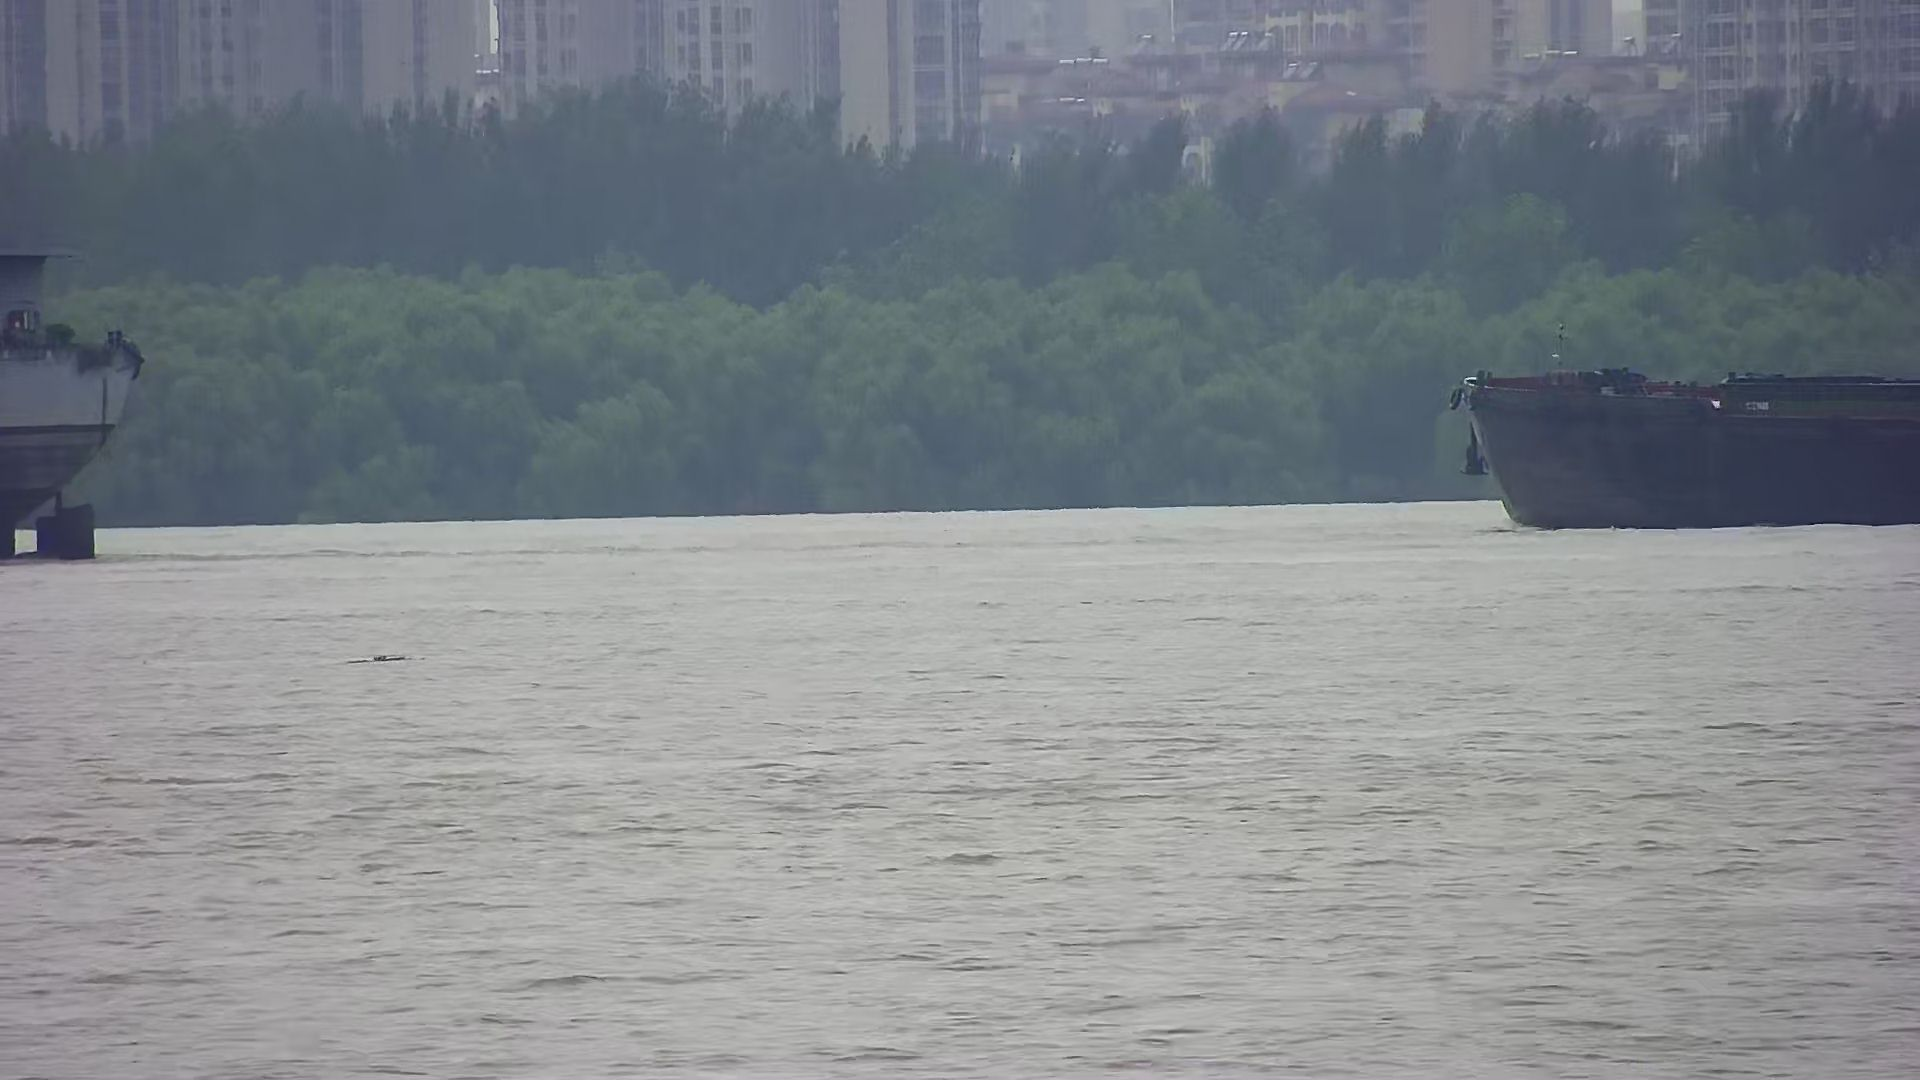rubbish: (355, 649, 418, 661)
ship: (1448, 326, 1920, 527), (1, 244, 152, 560)
